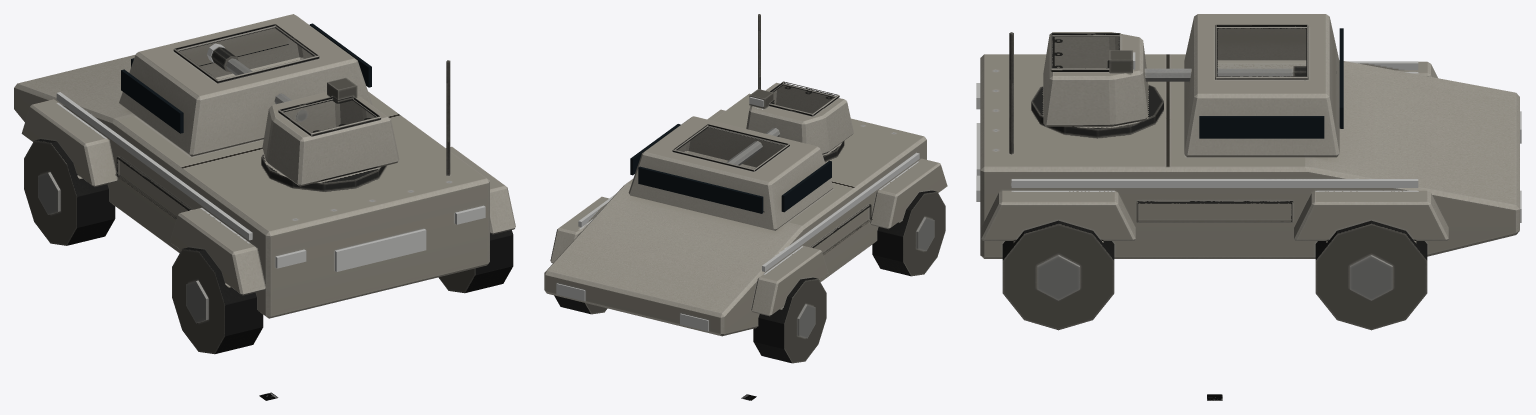
File: ord_herald.fbx
3 renders of one model, left to right at view 1: azimuth 30°, elevation 25°; view 2: azimuth 150°, elevation 25°; view 3: azimuth 270°, elevation 25°, orthographic. The views are drawn at different scales.
Parts seen in each view (by area): view 1: base_bar, turret_bar, base_glow_running_bar; view 2: base_bar, turret_bar, base_glow_running_bar, base_glow_head_bar; view 3: base_bar, turret_bar, base_glow_running_bar.
Boxes of the visible parts, x1,y1,x2,y2 form: base_bar: [14, 14, 515, 354]; turret_bar: [211, 47, 399, 191]; base_glow_running_bar: [56, 92, 485, 271]; base_bar: [544, 14, 947, 363]; turret_bar: [726, 81, 853, 165]; base_glow_running_bar: [578, 152, 919, 271]; base_glow_head_bar: [556, 283, 708, 331]; base_bar: [980, 14, 1519, 330]; turret_bar: [1031, 32, 1306, 137]; base_glow_running_bar: [976, 61, 1418, 201].
Bounding box in the file's own units: 458 × 575 × 697.
2 materials, 2 textured.
